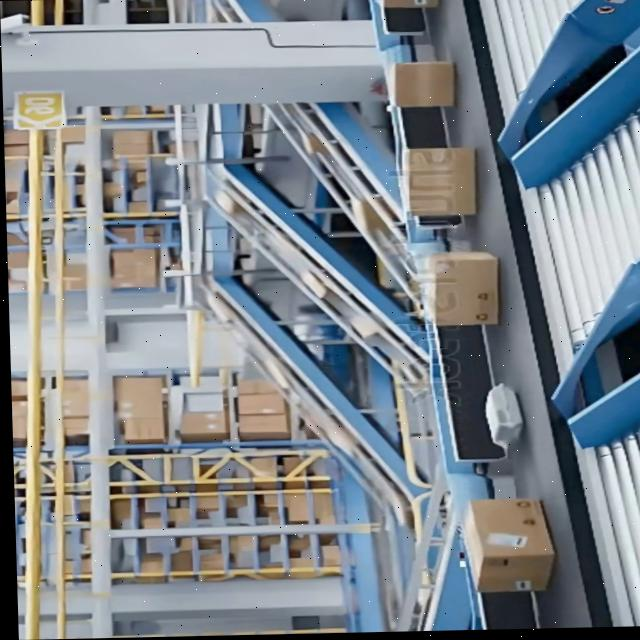product 1: (419, 249, 501, 326), (402, 146, 477, 215), (391, 59, 456, 107)
product 2: (486, 383, 526, 449)
